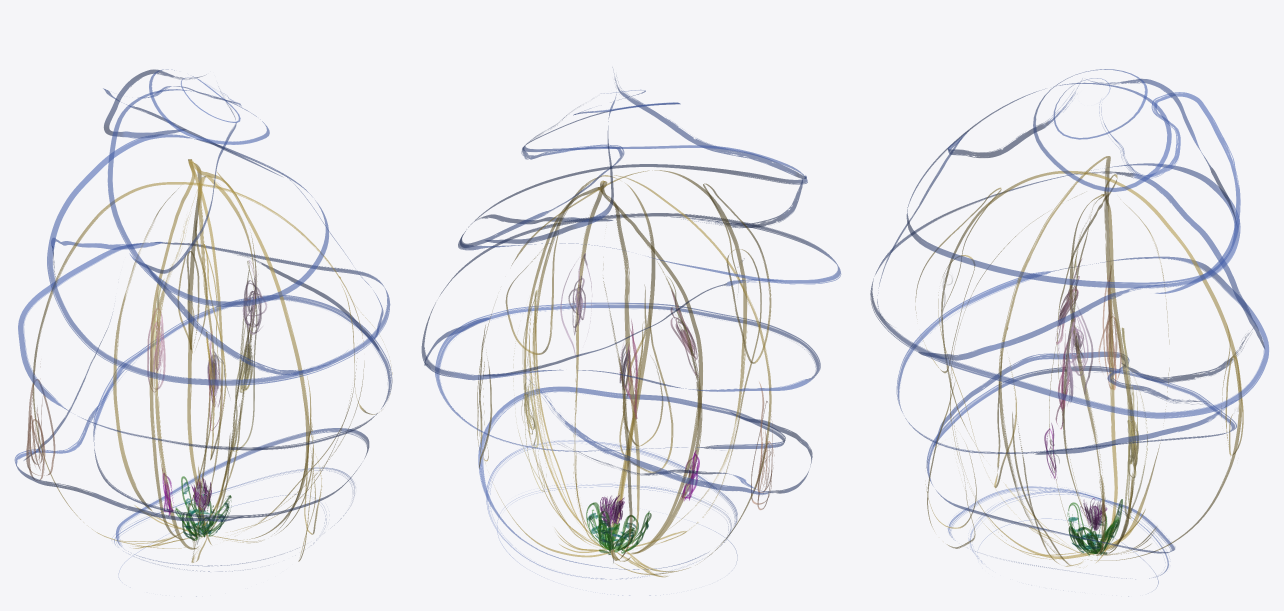
The picture shows the model from 3 angles, left to right: view 1: azimuth 30°, elevation 25°; view 2: azimuth 150°, elevation 25°; view 3: azimuth 270°, elevation 25°; orthographic projection. The views are drawn at different scales.
Visible parts, largest first — view 1: brush_VelvetInk_g0_b0_0; view 2: brush_VelvetInk_g0_b0_0; view 3: brush_VelvetInk_g0_b0_0.
Part boxes in pixels (box(x1,y1,x2,y2)): brush_VelvetInk_g0_b0_0: box(14, 69, 392, 596); brush_VelvetInk_g0_b0_0: box(421, 67, 840, 595); brush_VelvetInk_g0_b0_0: box(870, 69, 1268, 596).
Size of the model in its own units: 0.7067 by 1.07 by 0.6997.
1 material, 1 textured.
